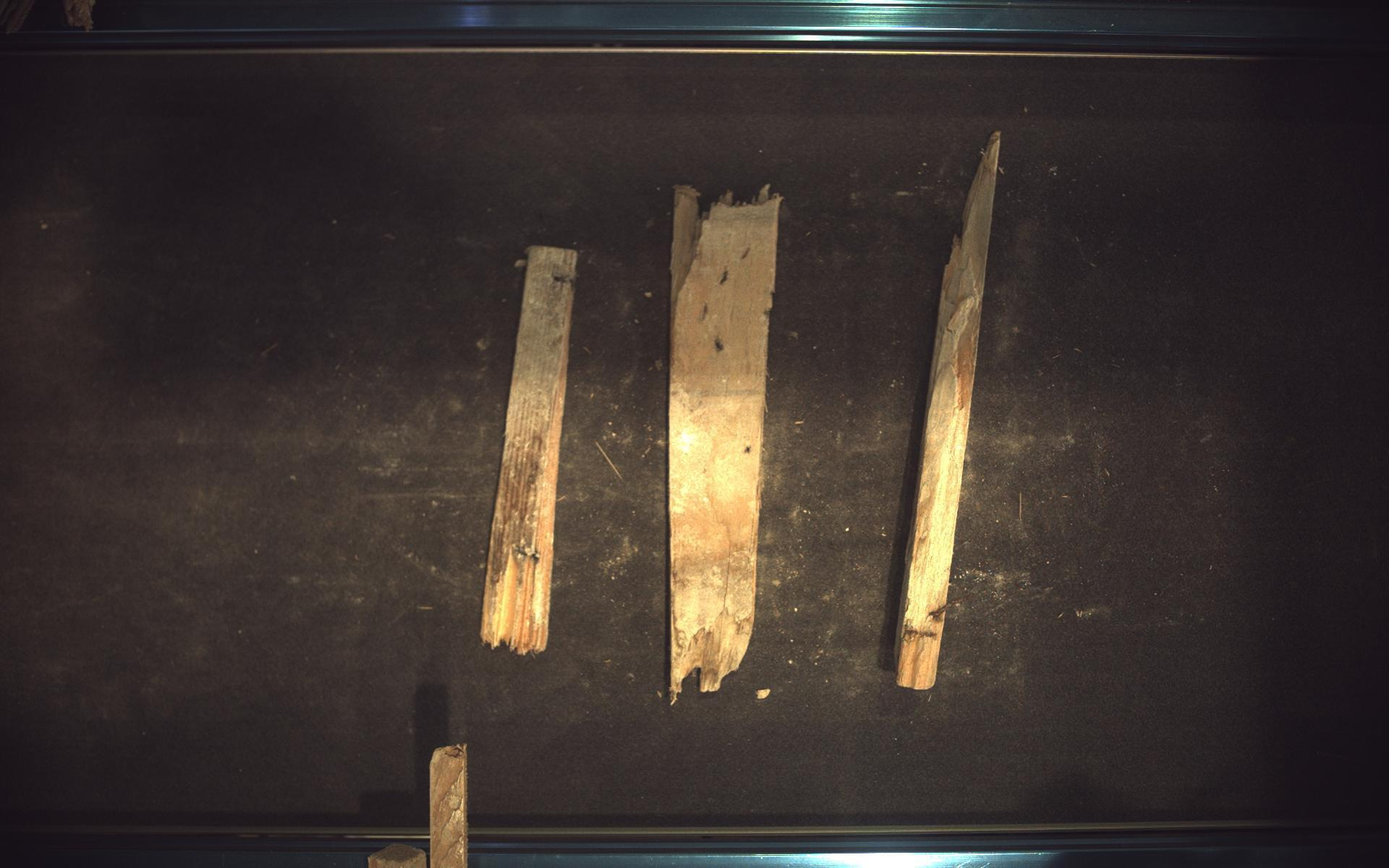wood: (669, 184, 783, 704), (899, 130, 1003, 691), (481, 245, 578, 655), (430, 745, 468, 868), (368, 846, 428, 868)
